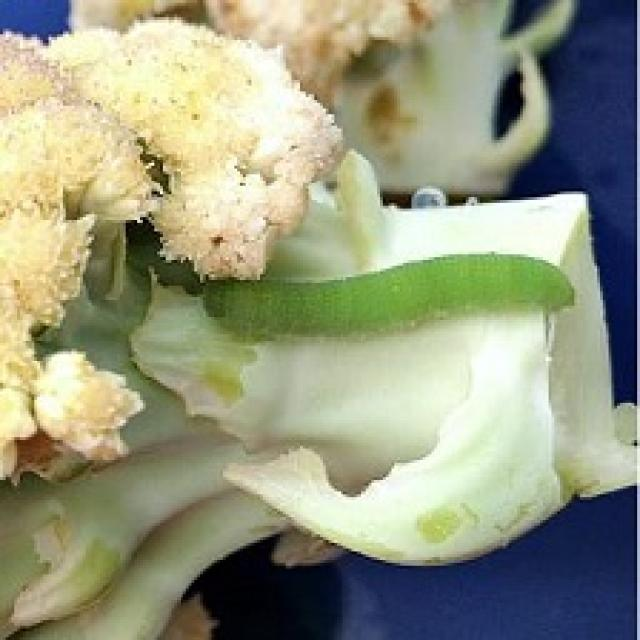Cabbage-worm: (189, 248, 591, 355)
